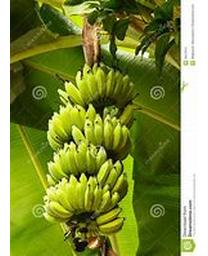banana: (43, 61, 137, 241)
